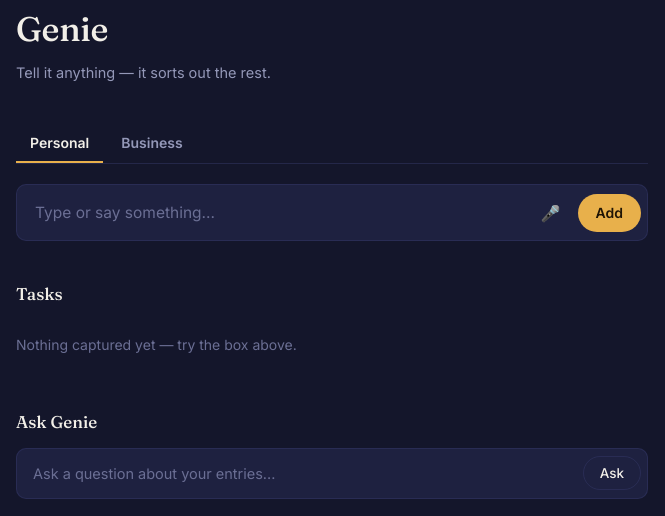
Test case: App › switches between the Personal and Business tabs
Expected: the field with placeholder "Type or say something..." is shown, [35, 189, 524, 236]
Click the tab "Business" at (152, 144), box [107, 124, 197, 163]
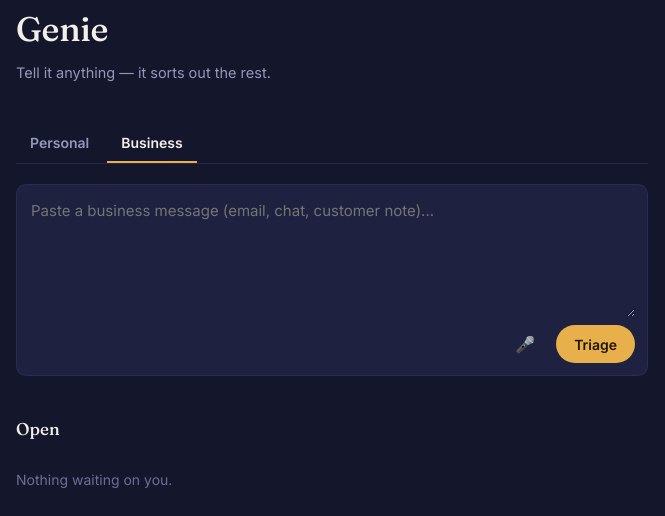
Expected: the field with placeholder "type or say something" is not shown
Expected: the text box with placeholder "Paste a business message (email, chat, customer note)..." is shown, [29, 197, 635, 318]
